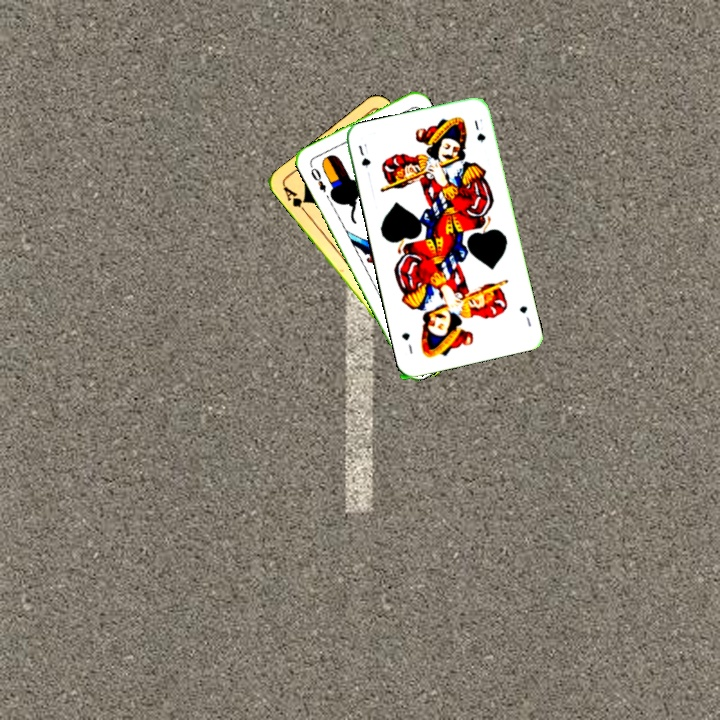EO: (307, 164, 329, 195)
GA: (279, 182, 310, 217)
GU: (354, 141, 373, 171), (516, 302, 534, 329)
